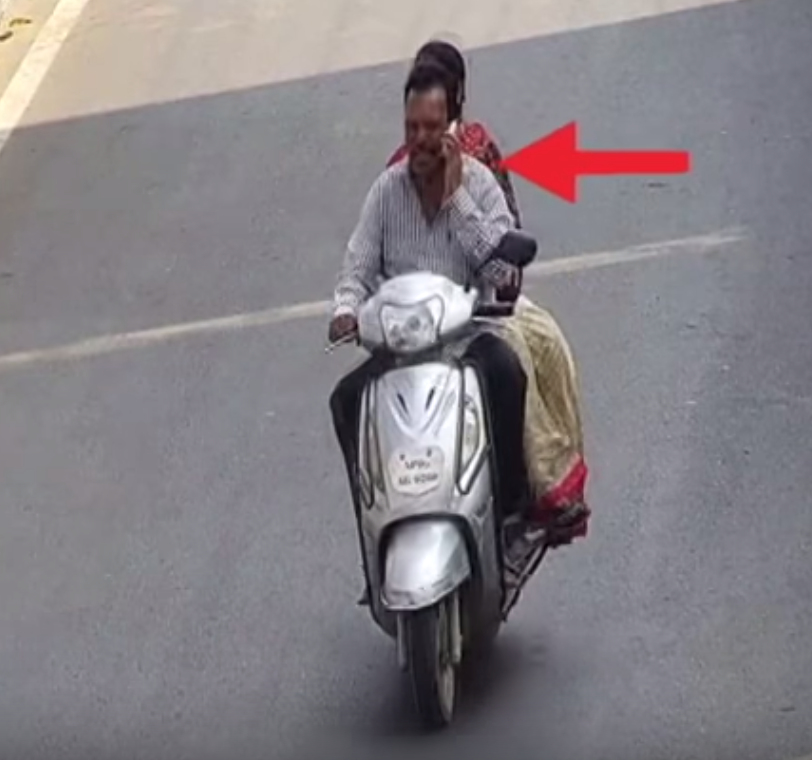h_bike: (318, 29, 578, 722)
h_nohelmet: (396, 64, 456, 176)
numplate: (382, 447, 449, 498)
